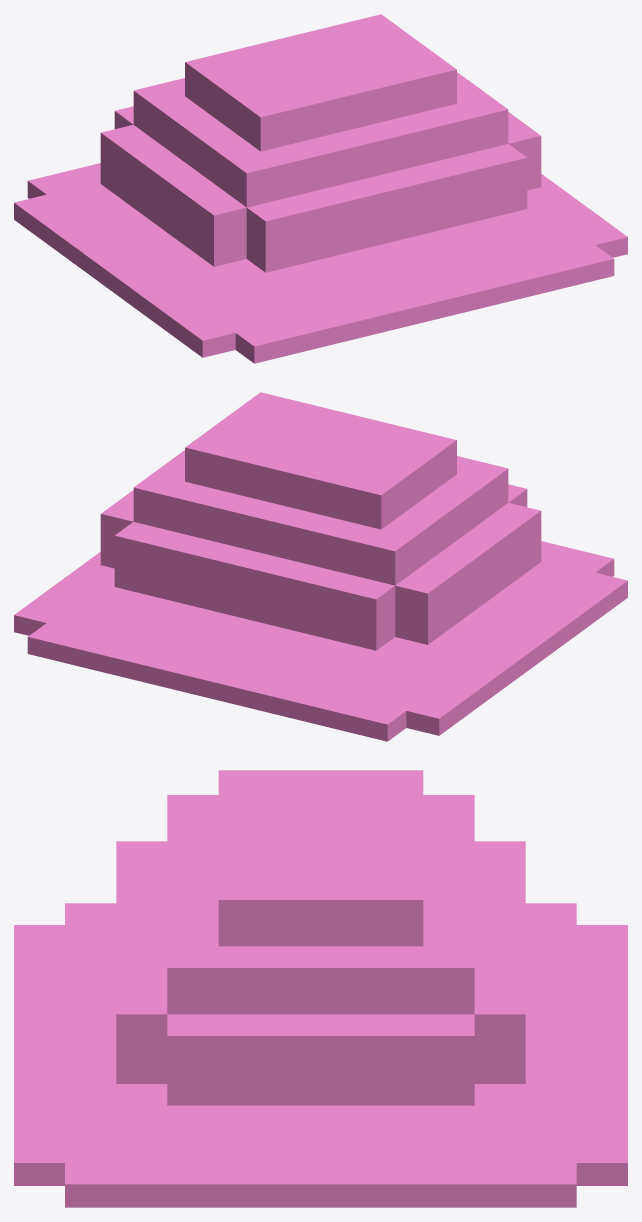
3 views of the same model, one above another, from view 1: azimuth 30°, elevation 25°; view 2: azimuth 150°, elevation 25°; view 3: azimuth 270°, elevation 25° (orthographic). The views are drawn at different scales.
Visible parts, largest first — view 1: 97; view 2: 97; view 3: 97.
Part boxes in pixels (x1,y1,x2,y2): 97: (14, 14, 627, 363); 97: (14, 392, 627, 741); 97: (14, 770, 627, 1207).
Size of the model in its own units: 260 by 100 by 240.
Materials: 1 (1 with a texture image).
